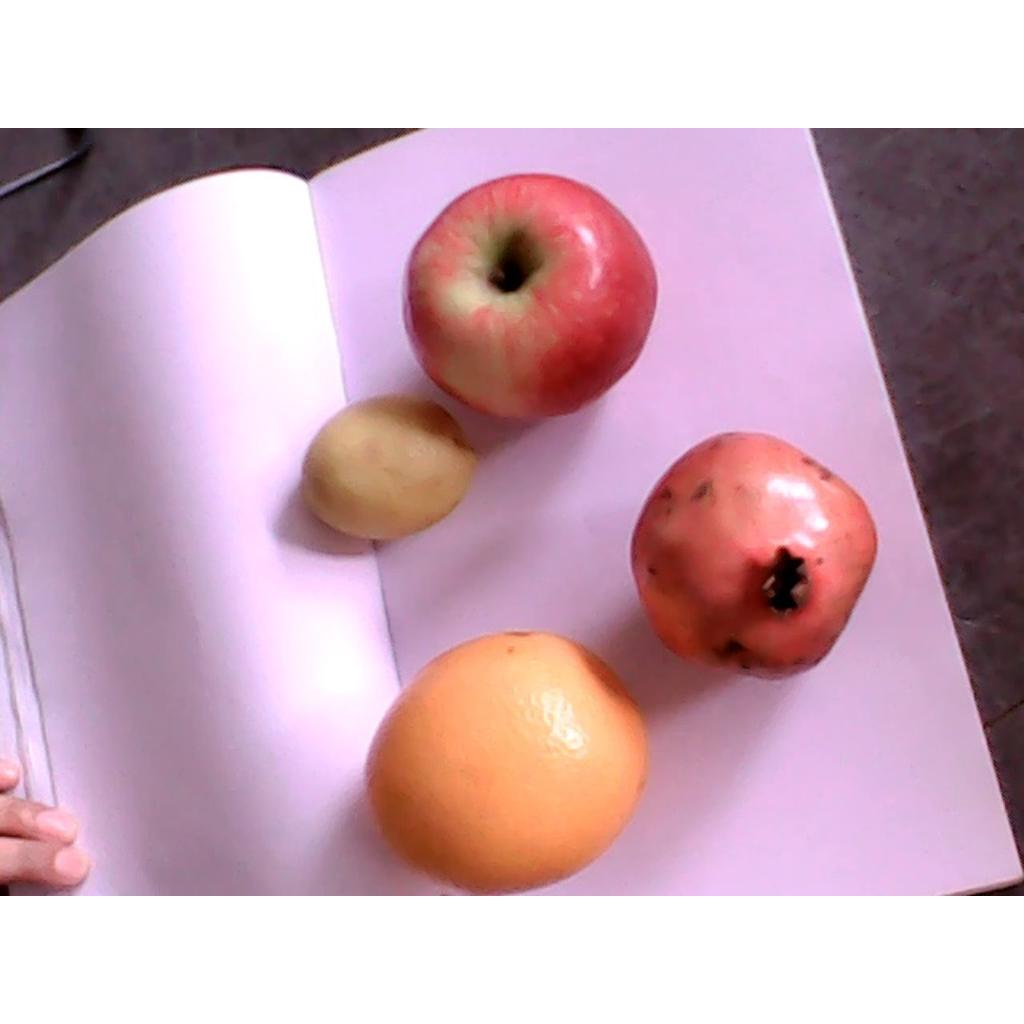apple: (401, 173, 658, 422)
lemon: (300, 399, 480, 539)
orange: (364, 633, 652, 893)
pomegranate: (632, 432, 883, 684)
